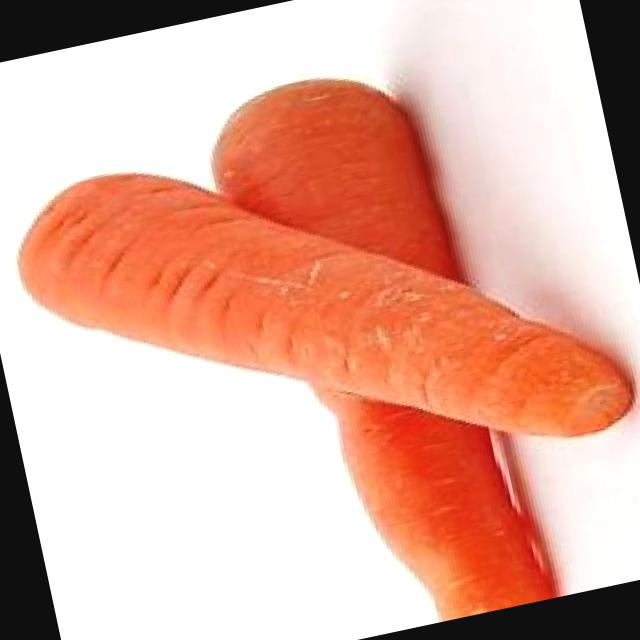carrot: (6, 75, 640, 542), (197, 50, 559, 640)
